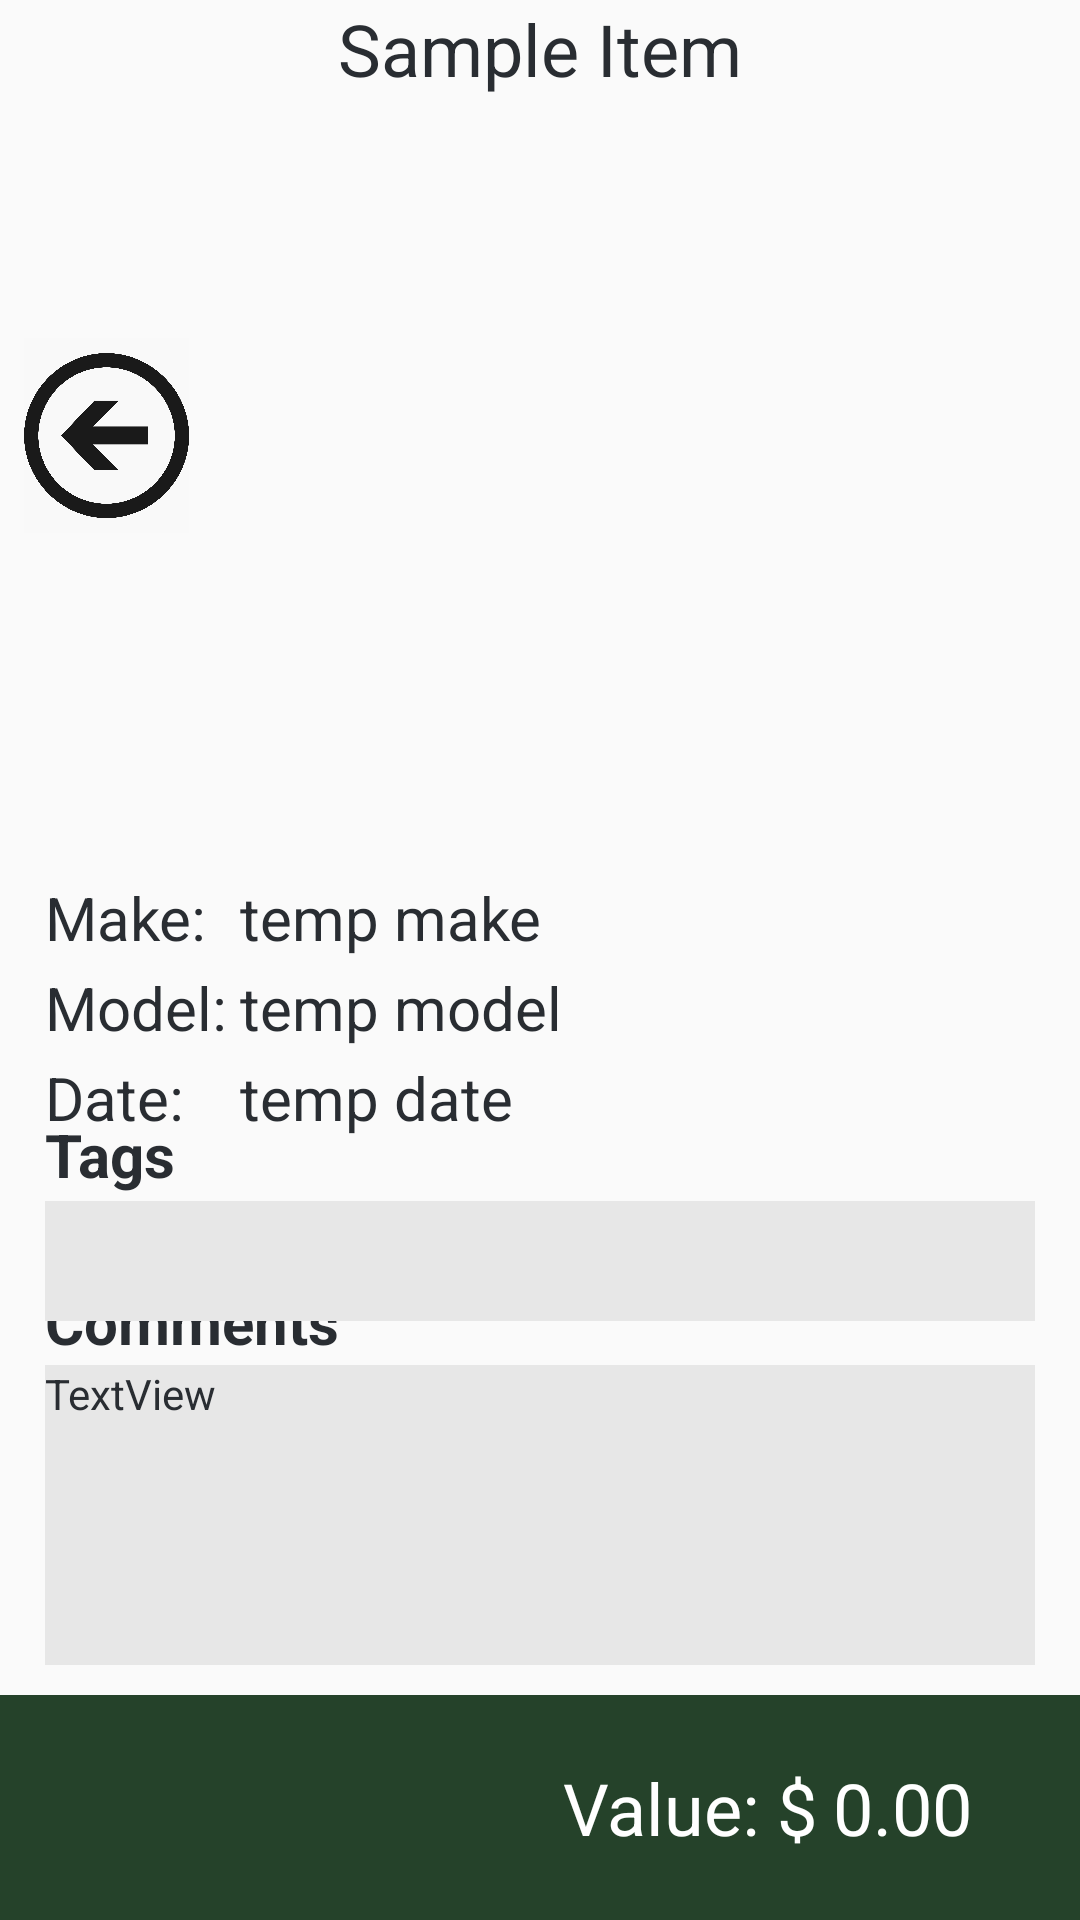

Locate icon controls on the screen. Image size 1080*1920, boxes as (x1,y1,x2,y2).
moves to the previous item Picture: (24,353,189,518)
